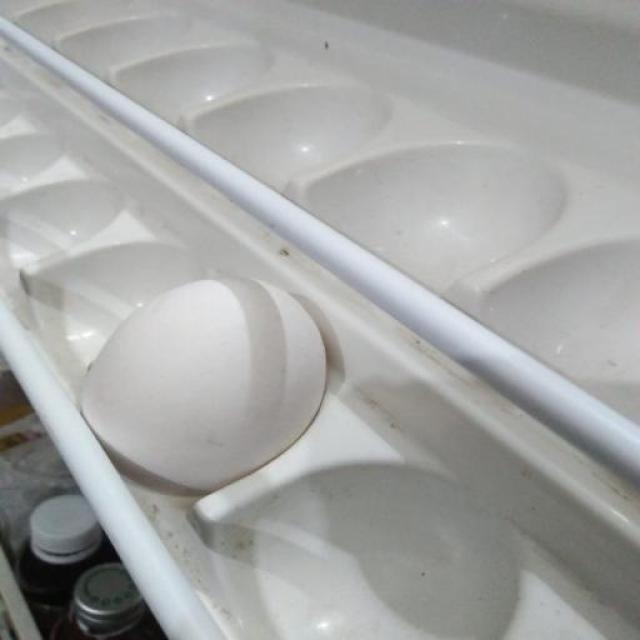telur: (81, 274, 326, 492)
